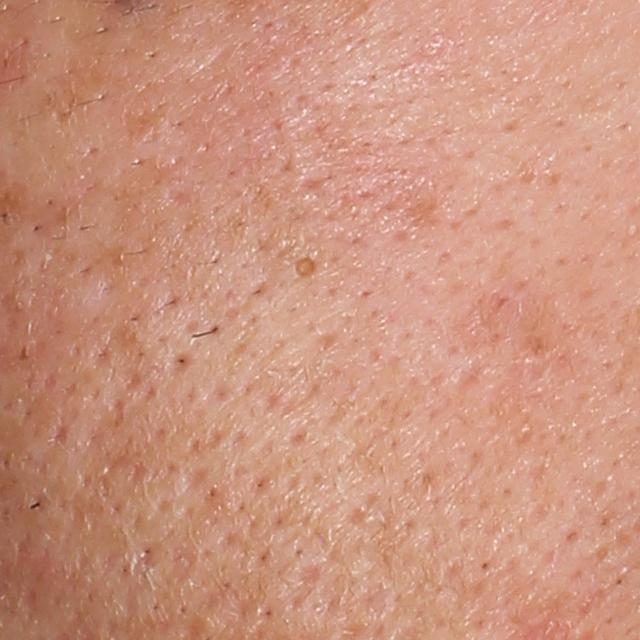comedo: (287, 245, 328, 289)
